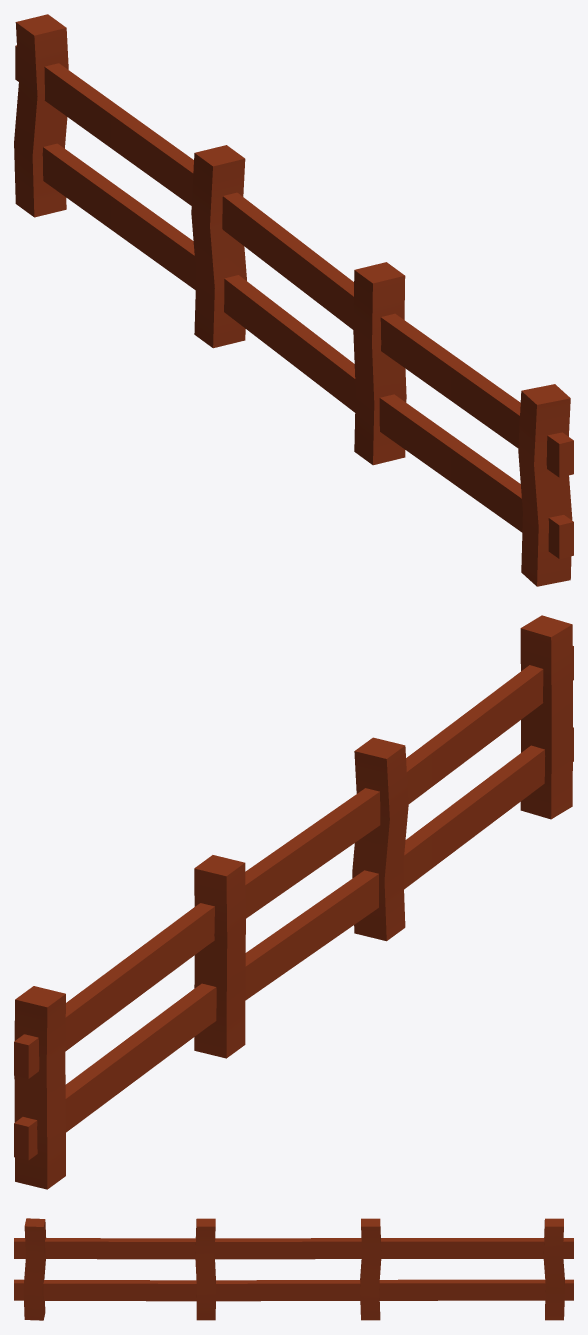
Rendered from Foot_Barriere_v1_003.FBX.
3 views of the same model, one above another, from view 1: azimuth 30°, elevation 25°; view 2: azimuth 150°, elevation 25°; view 3: azimuth 270°, elevation 25° (orthographic). The views are drawn at different scales.
Visible parts, largest first — view 1: Barrière_barre021, Barrière_barre022, Barrière_poteau044, Barrière_poteau041, Barrière_poteau042, Barrière_poteau043; view 2: Barrière_barre021, Barrière_barre022, Barrière_poteau044, Barrière_poteau041, Barrière_poteau042, Barrière_poteau043; view 3: Barrière_barre021, Barrière_barre022, Barrière_poteau042, Barrière_poteau044, Barrière_poteau041, Barrière_poteau043.
Part boxes in pixels (box(x1,y1,x2,y2)): Barrière_barre021: box(42, 143, 573, 558); Barrière_barre022: box(15, 45, 573, 477); Barrière_poteau044: box(191, 145, 246, 348); Barrière_poteau041: box(14, 14, 68, 217); Barrière_poteau042: box(518, 384, 572, 586); Barrière_poteau043: box(353, 262, 406, 465); Barrière_barre021: box(14, 727, 573, 1160); Barrière_barre022: box(14, 646, 573, 1078); Barrière_poteau044: box(194, 855, 245, 1058); Barrière_poteau041: box(14, 986, 65, 1189); Barrière_poteau042: box(520, 615, 572, 819); Barrière_poteau043: box(352, 737, 408, 941); Barrière_barre021: box(14, 1279, 573, 1301); Barrière_barre022: box(14, 1238, 573, 1259); Barrière_poteau042: box(23, 1218, 46, 1320); Barrière_poteau044: box(360, 1218, 381, 1320); Barrière_poteau041: box(543, 1218, 564, 1320); Barrière_poteau043: box(195, 1218, 215, 1320).
Size of the model in its own units: 11.56 by 53.87 by 292.
